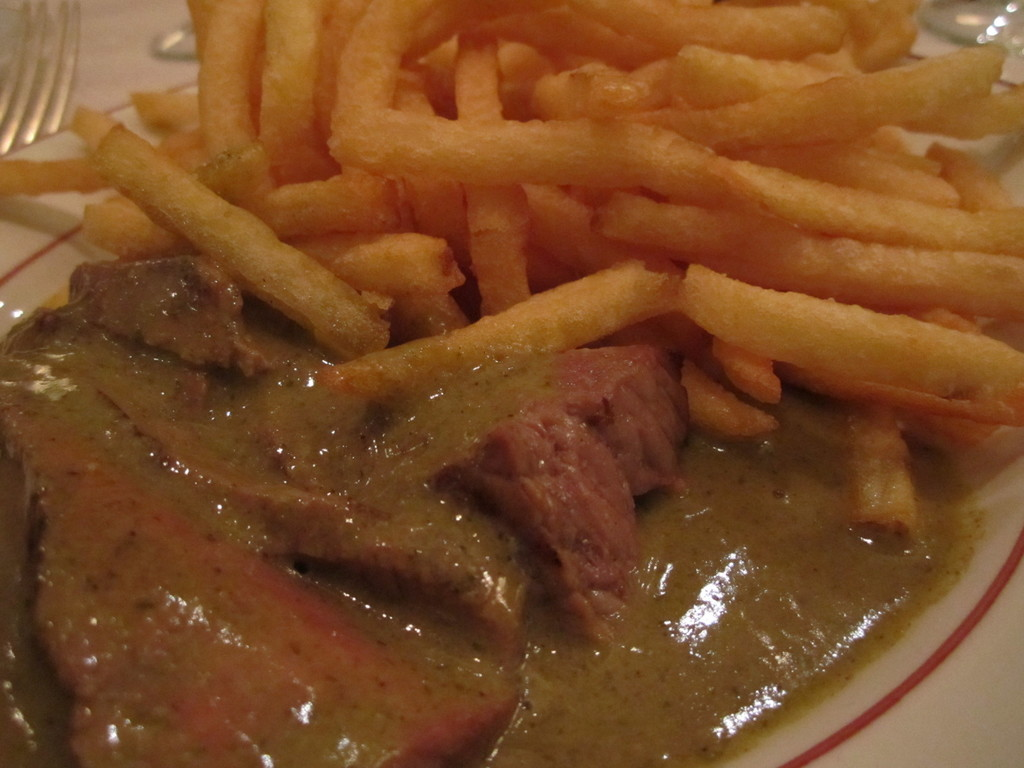French fries: (0, 0, 1023, 547)
